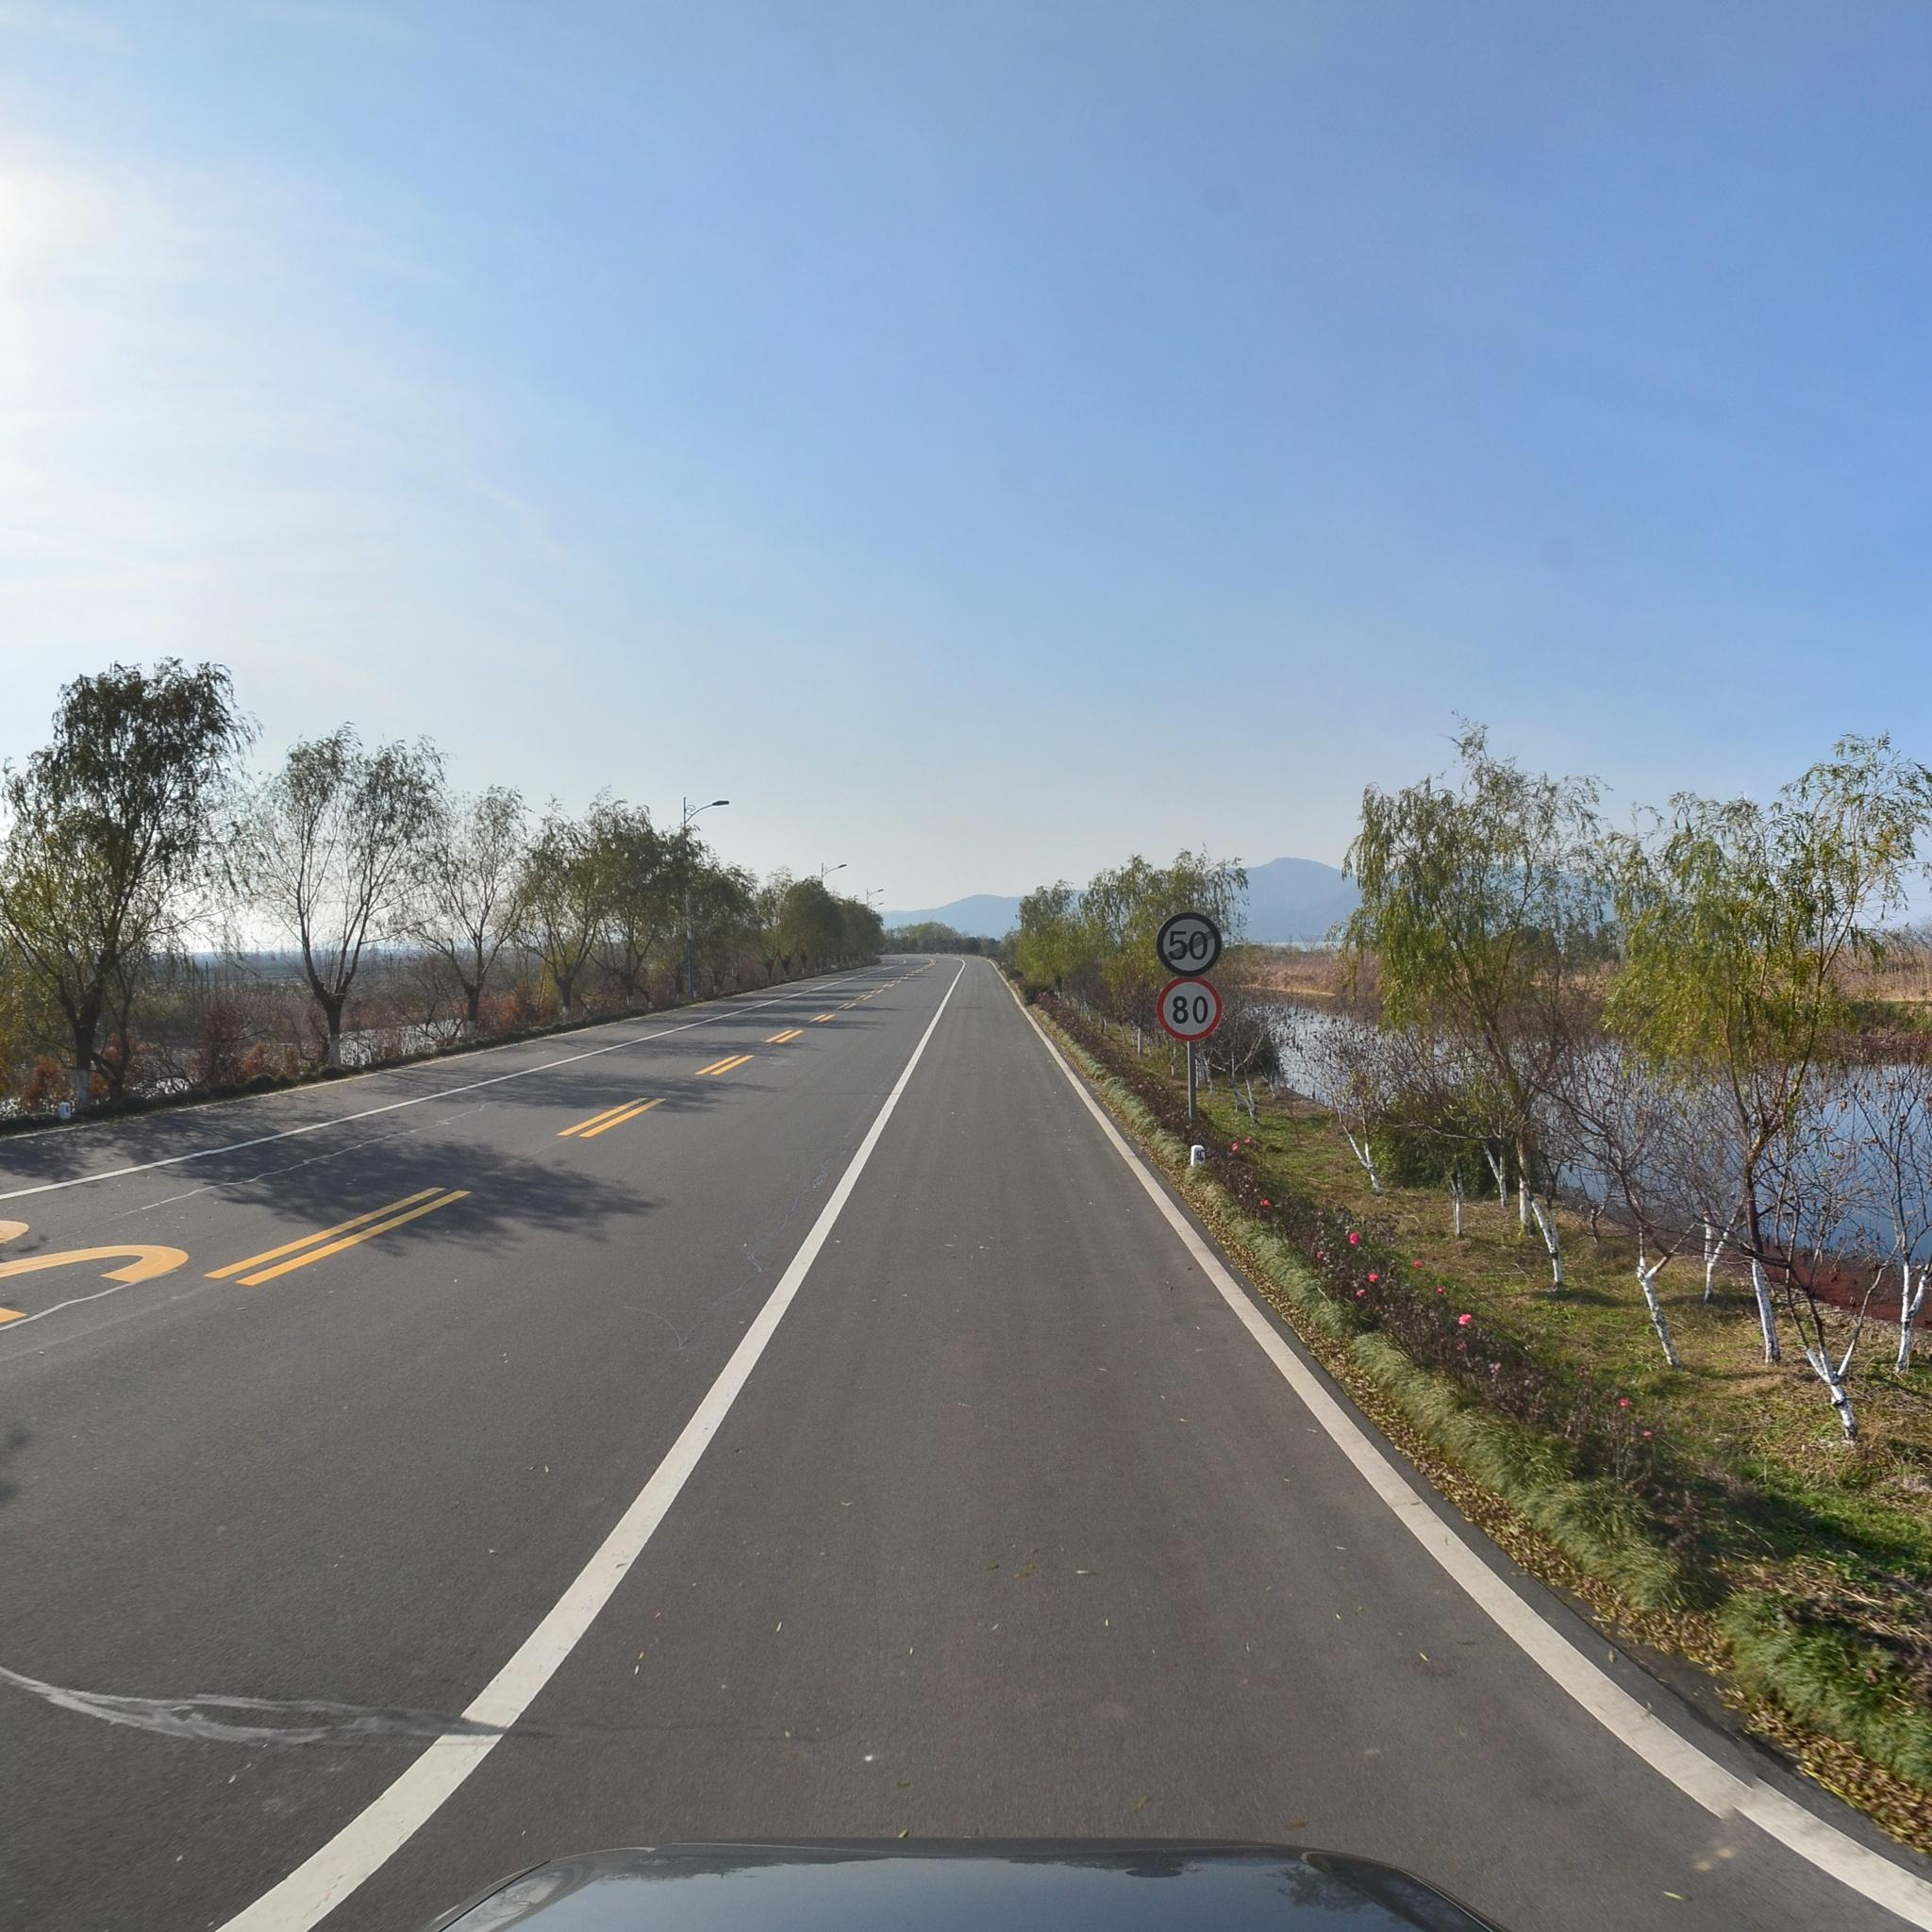pl80: (1162, 984, 1224, 1040)
